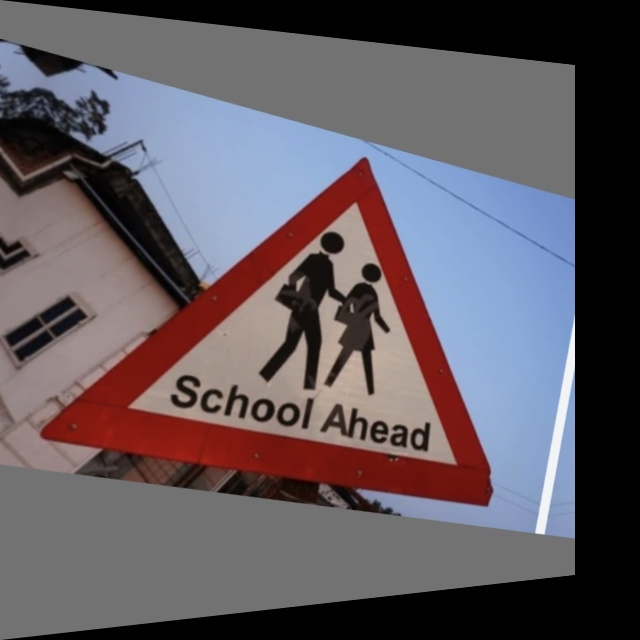School_Ahead: (97, 102, 529, 526)
